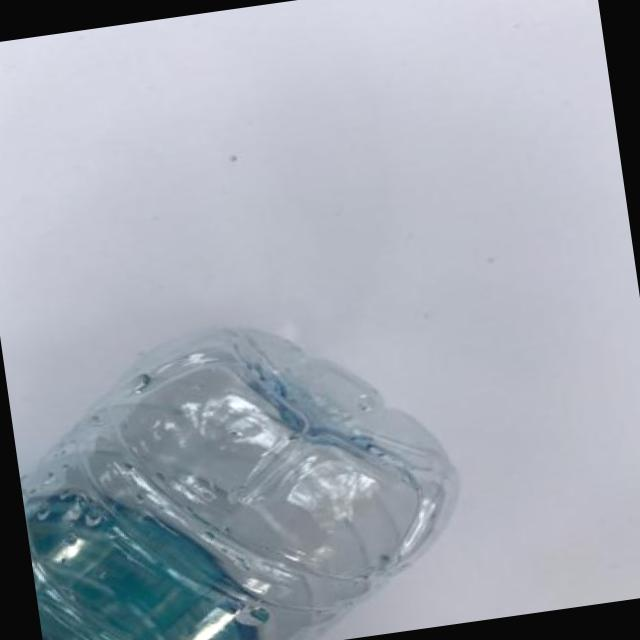plastic: (4, 317, 451, 640)
